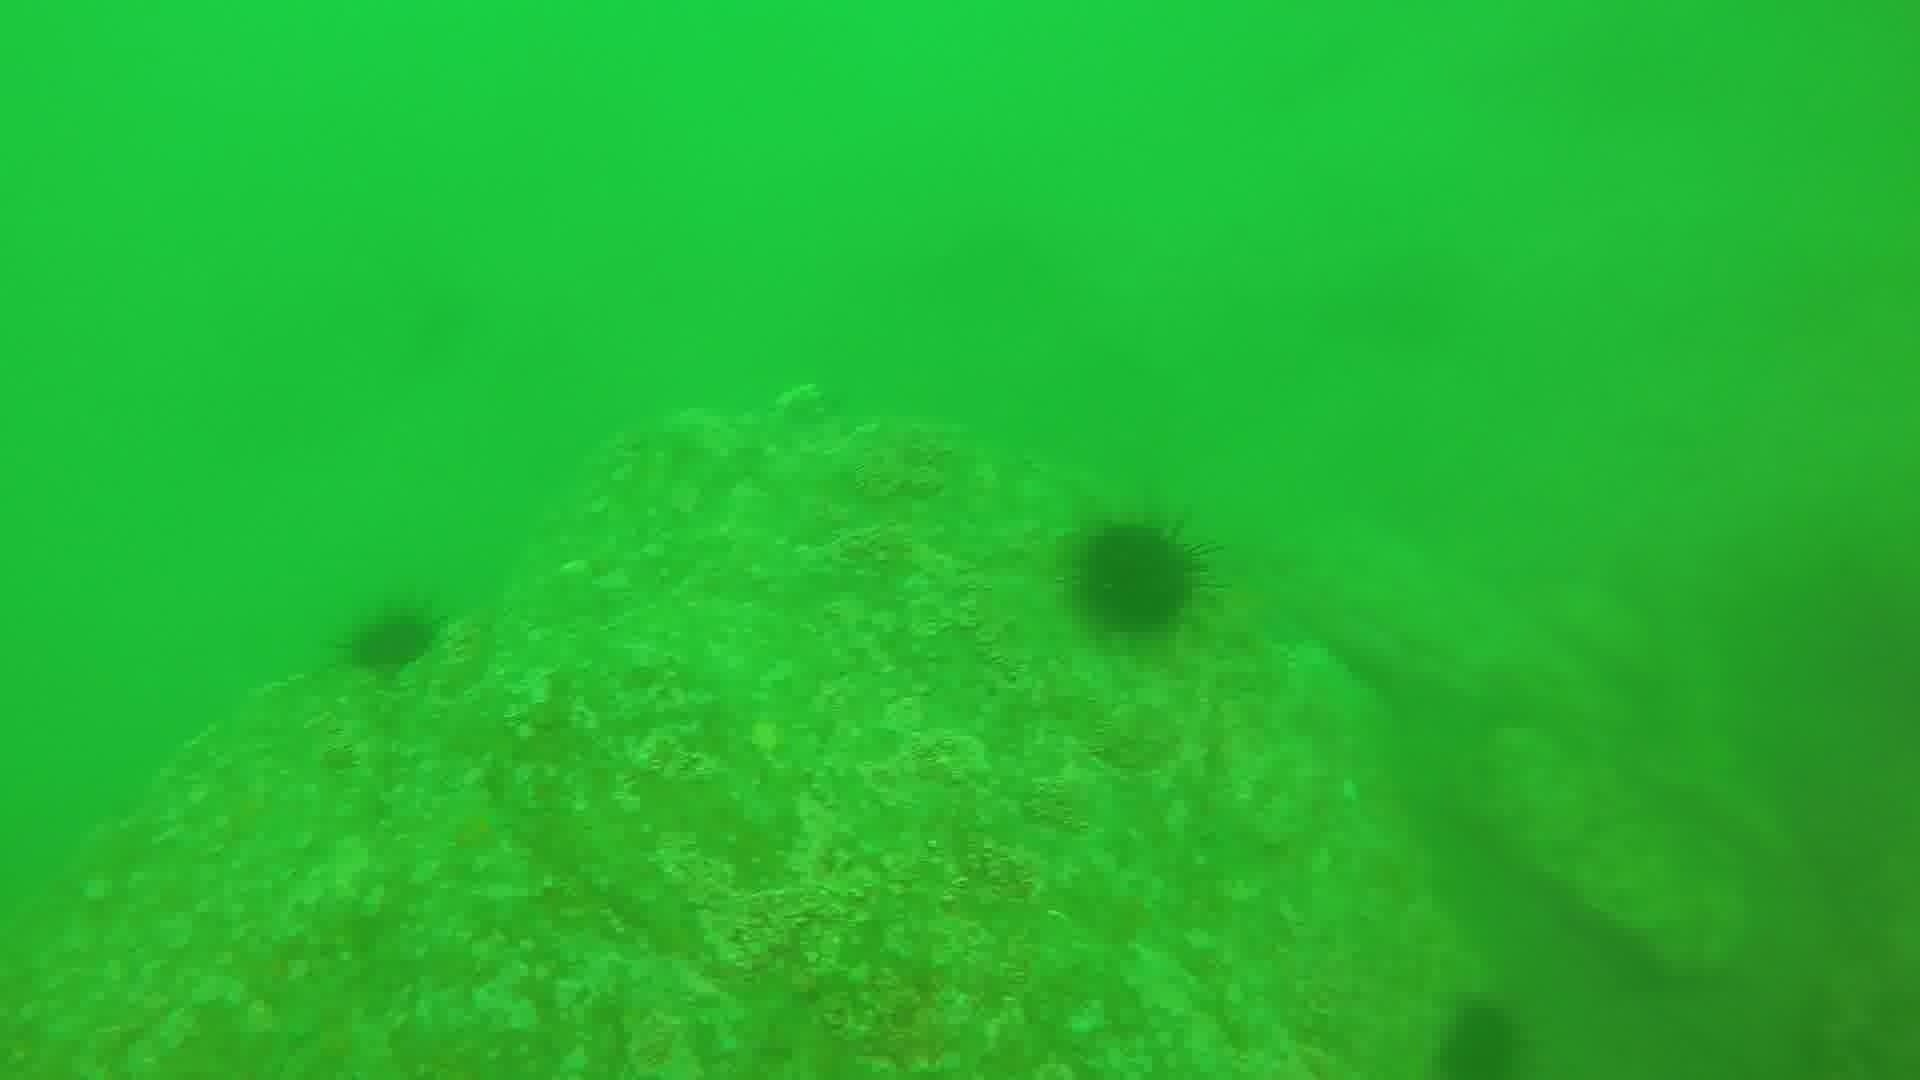echinus: (1067, 512, 1216, 642), (339, 597, 444, 680), (1432, 996, 1532, 1076)
